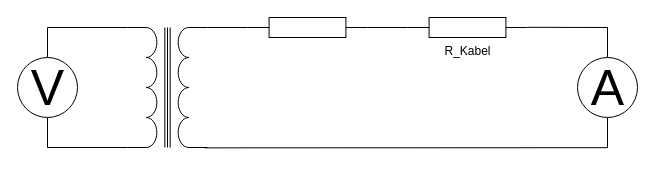
This 655x186 diagram has some shape labels left out. The centre of each missing label's shape, as x and y in pixels:
"R_Kompensation" goes at point (307, 27).
"Wandler" goes at point (167, 87).
